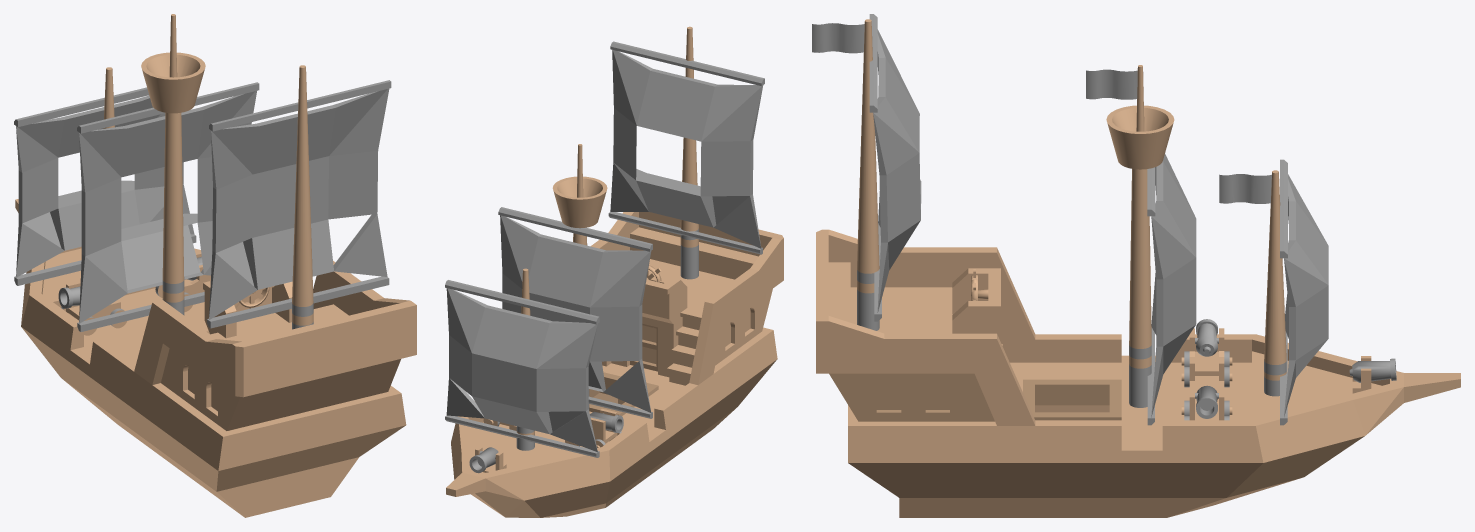
File: navire_pirate_sombre.glb
3 renders of one model, left to right at view 1: azimuth 30°, elevation 25°; view 2: azimuth 150°, elevation 25°; view 3: azimuth 270°, elevation 25°, orthographic. The views are drawn at different scales.
Visible parts, largest first — view 1: navire_pirate_sombre_assimp; view 2: navire_pirate_sombre_assimp; view 3: navire_pirate_sombre_assimp.
Part boxes in pixels (bbox=[...]): navire_pirate_sombre_assimp: bbox=[14, 14, 416, 517]; navire_pirate_sombre_assimp: bbox=[445, 26, 783, 517]; navire_pirate_sombre_assimp: bbox=[812, 14, 1460, 517].
Bounding box in the file's own units: 28.5 × 65.46 × 80.98.
